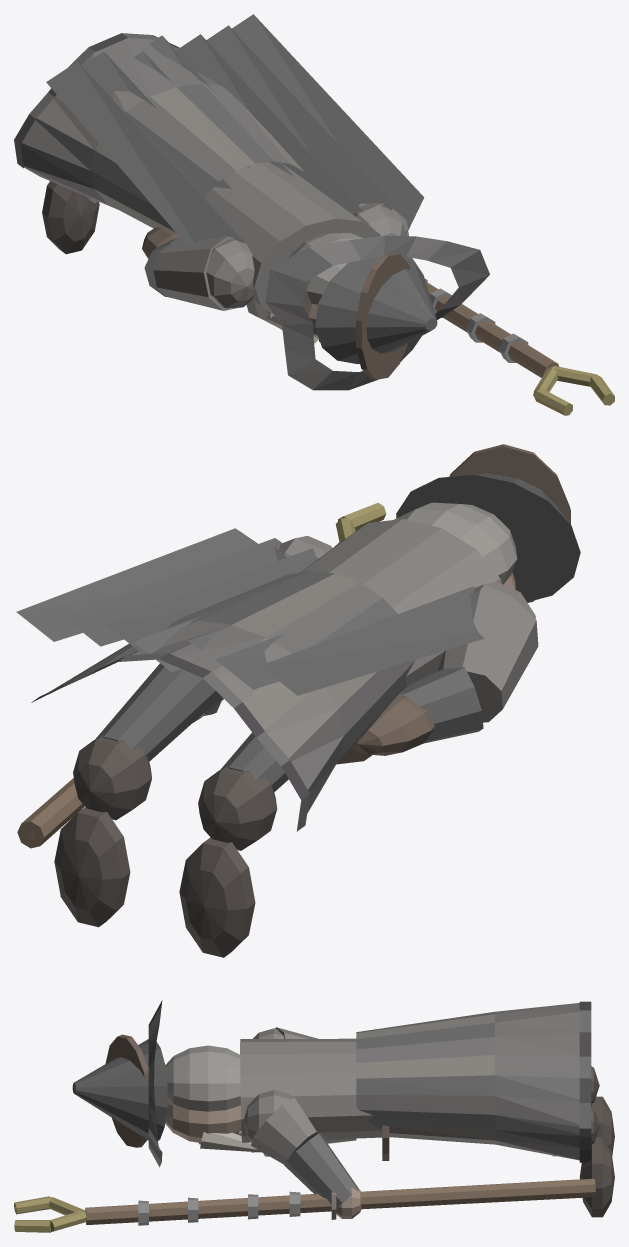
File: wizard-storm-neutral.glb
3 views of the same model, one above another, from view 1: azimuth 30°, elevation 25°; view 2: azimuth 150°, elevation 25°; view 3: azimuth 270°, elevation 25° (orthographic). The views are drawn at different scales.
Visible parts, largest first — view 1: cape, robe, hat-brim, torso, hat-crown, shoulder, upper-arm, boot, hat-band, staff, storm-fork, hem (+3 smaller); view 2: cape, robe, boot, torso, hat-crown, leg, upper-arm, forearm, rear-hair, hat-band, hem, pouch (+3 smaller); view 3: robe, torso, staff, hat-crown, rear-hair, boot, forearm, upper-arm, hem, face, storm-fork, shoulder (+5 smaller).
Boxes of the visible parts, x1=… form: cape: x1=46, y1=14, x2=424, y2=245; robe: x1=20, y1=38, x2=304, y2=233; hat-brim: x1=265, y1=235, x2=489, y2=390; torso: x1=204, y1=162, x2=380, y2=315; hat-crown: x1=315, y1=257, x2=437, y2=364; shoulder: x1=206, y1=203, x2=407, y2=308; upper-arm: x1=153, y1=203, x2=408, y2=310; boot: x1=42, y1=181, x2=99, y2=254; hat-band: x1=356, y1=251, x2=410, y2=379; staff: x1=425, y1=281, x2=559, y2=377; storm-fork: x1=533, y1=366, x2=614, y2=415; hem: x1=14, y1=33, x2=179, y2=168; cape: x1=16, y1=528, x2=484, y2=695; robe: x1=50, y1=570, x2=415, y2=812; boot: x1=54, y1=734, x2=277, y2=957; torso: x1=301, y1=519, x2=501, y2=690; hat-crown: x1=396, y1=473, x2=580, y2=601; leg: x1=94, y1=663, x2=378, y2=791; upper-arm: x1=274, y1=546, x2=538, y2=722; forearm: x1=204, y1=667, x2=483, y2=743; rear-hair: x1=394, y1=502, x2=517, y2=584; hat-band: x1=449, y1=444, x2=570, y2=602; hem: x1=31, y1=653, x2=309, y2=831; pouch: x1=351, y1=691, x2=434, y2=755; robe: x1=356, y1=1003, x2=579, y2=1160; torso: x1=240, y1=1038, x2=382, y2=1142; staff: x1=85, y1=1178, x2=595, y2=1224; hat-crown: x1=72, y1=1039, x2=167, y2=1140; rear-hair: x1=165, y1=1045, x2=240, y2=1111; boot: x1=552, y1=1066, x2=614, y2=1217; forearm: x1=284, y1=1133, x2=359, y2=1208; upper-arm: x1=251, y1=1027, x2=318, y2=1164; hem: x1=579, y1=1001, x2=591, y2=1162; face: x1=165, y1=1099, x2=241, y2=1142; storm-fork: x1=14, y1=1196, x2=86, y2=1232; shoulder: x1=243, y1=1028, x2=300, y2=1147.
Bounding box in the file's own units: 1.24 × 0.8595 × 2.56.
